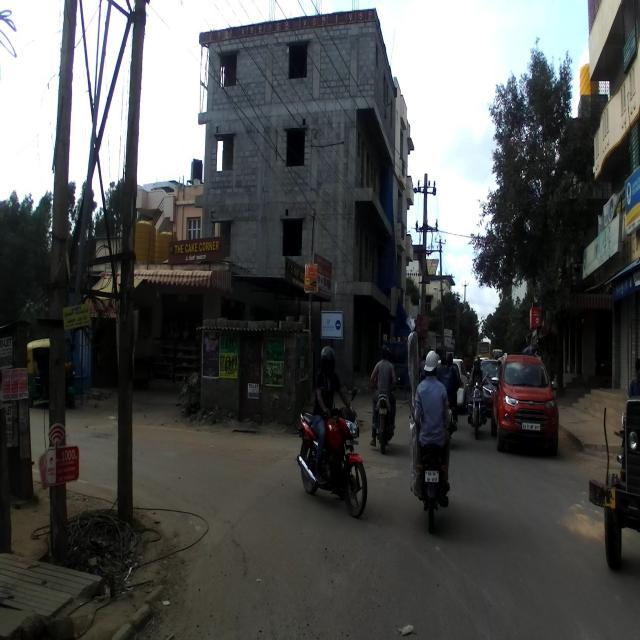autorickshaw: (27, 339, 76, 412)
car: (492, 351, 560, 453)
motorcycle: (296, 386, 368, 518), (414, 396, 455, 534), (465, 370, 486, 442)
